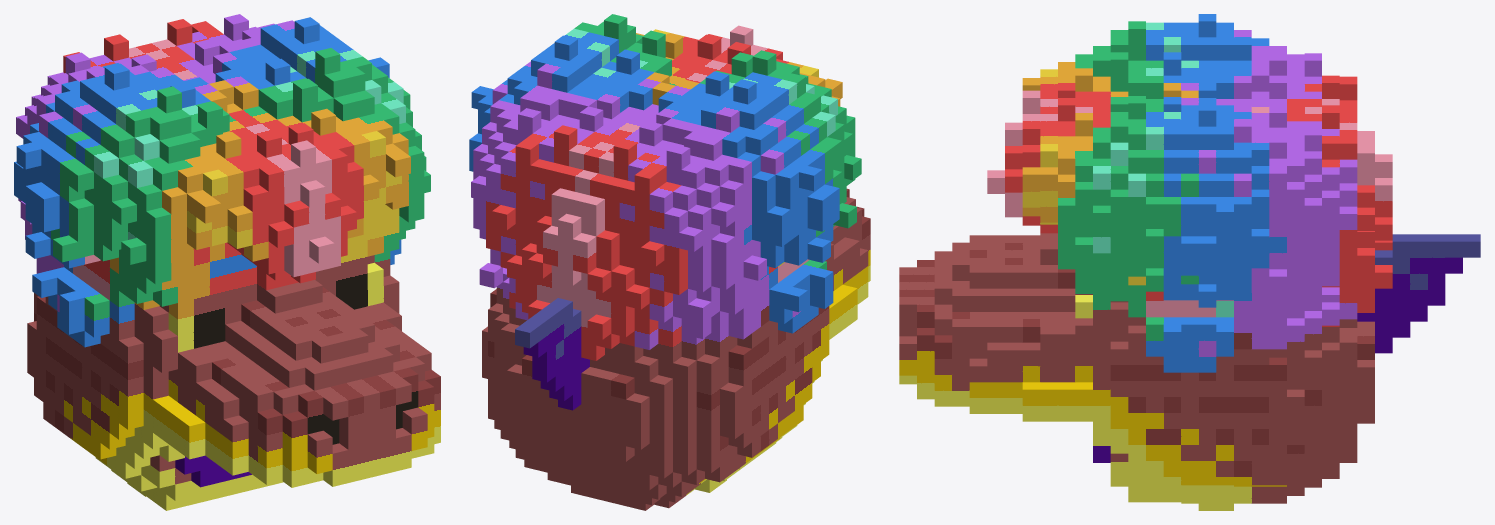
Rendered from clown wig_red glasses.gltf.
3 renders of one model, left to right at view 1: azimuth 30°, elevation 25°; view 2: azimuth 150°, elevation 25°; view 3: azimuth 270°, elevation 25°, orthographic. The views are drawn at different scales.
Parts seen in each view (by area): view 1: C08_H_ClownW_RedG_RainbowSpec-Mesh; view 2: C08_H_ClownW_RedG_RainbowSpec-Mesh; view 3: C08_H_ClownW_RedG_RainbowSpec-Mesh.
Boxes of the visible parts, <box> form: C08_H_ClownW_RedG_RainbowSpec-Mesh: <box>14,14,440,510</box>; C08_H_ClownW_RedG_RainbowSpec-Mesh: <box>469,14,870,510</box>; C08_H_ClownW_RedG_RainbowSpec-Mesh: <box>899,14,1480,510</box>.
Bounding box in the file's own units: 23 × 26 × 33.
1 material, 1 textured.
